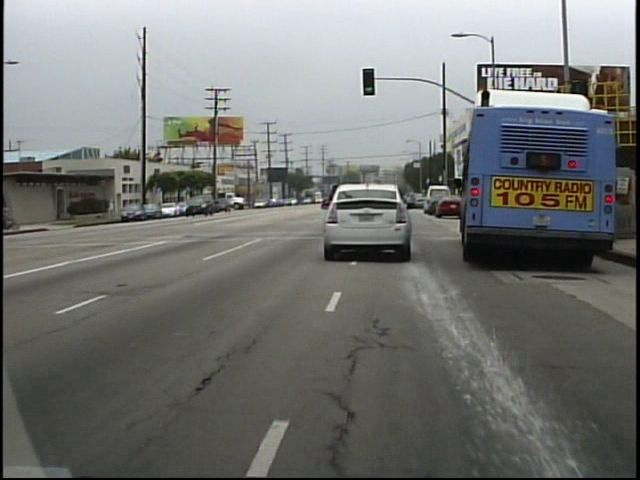person: (104, 195, 118, 221)
